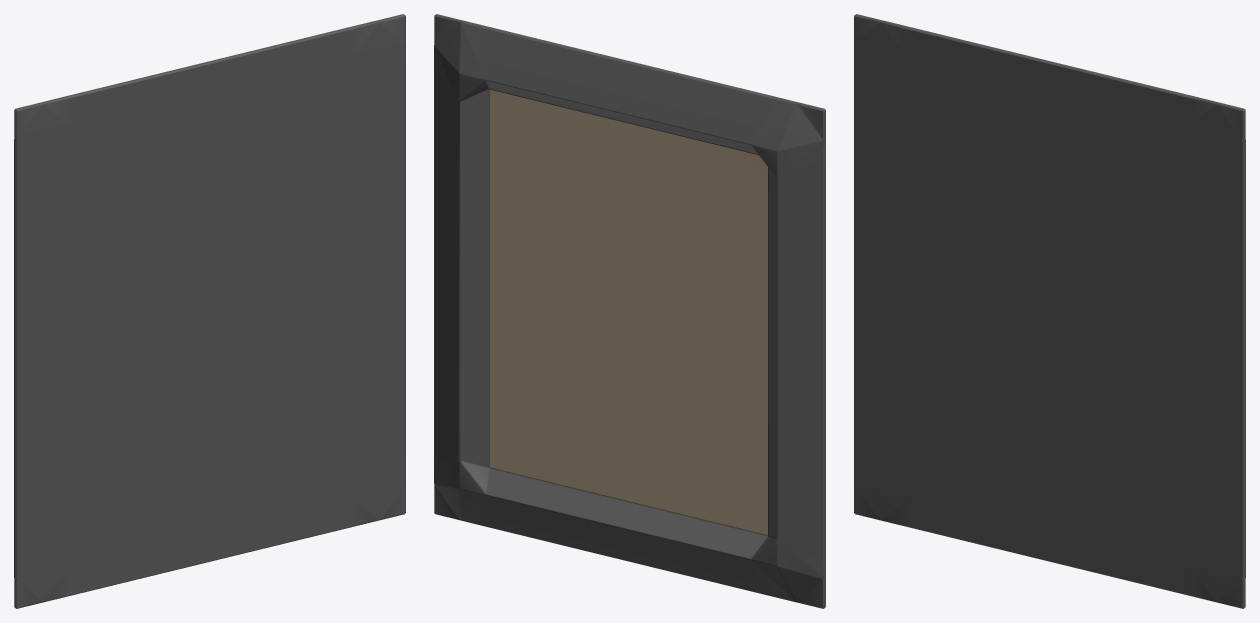
File: frame.fbx
The picture shows the model from 3 angles, left to right: view 1: azimuth 30°, elevation 25°; view 2: azimuth 150°, elevation 25°; view 3: azimuth 330°, elevation 25°; orthographic projection.
Parts seen in each view (by area): view 1: frame; view 2: frame; view 3: frame.
Boxes of the visible parts, left/top/right/bottom form: frame: left=14, top=14, right=405, bottom=608; frame: left=434, top=14, right=825, bottom=608; frame: left=854, top=14, right=1245, bottom=608.
Bounding box in the file's own units: 90 × 110 × 5.18.
